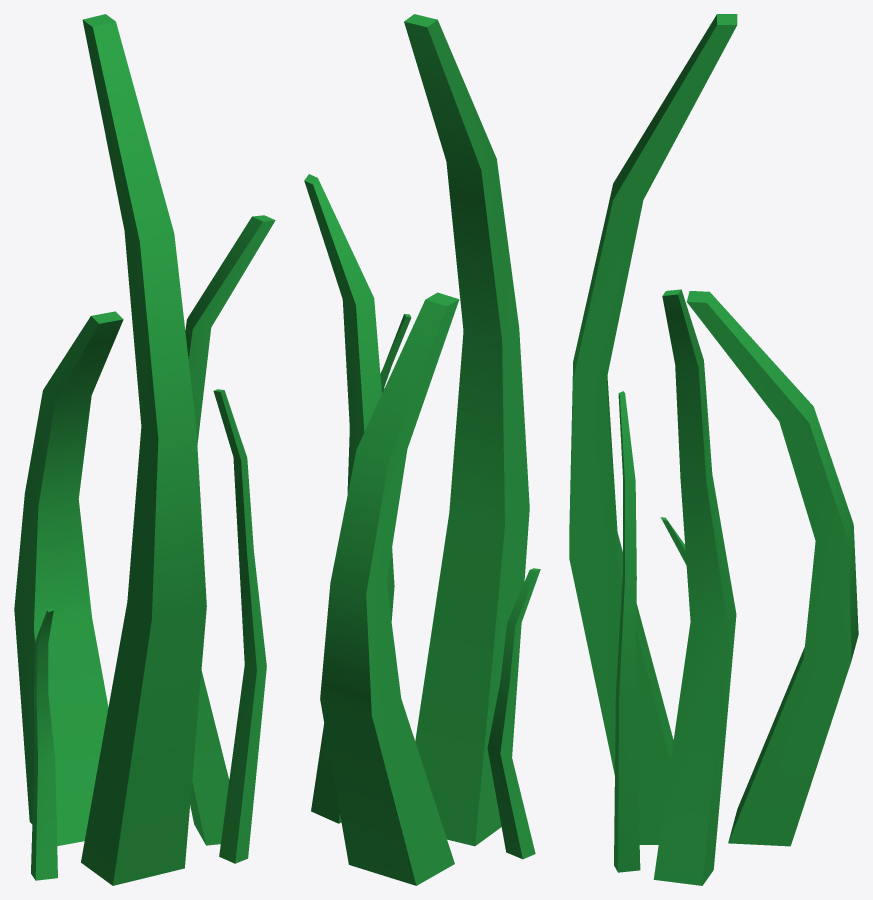
Rendered from Grass.fbx.
3 views of the same model, side by side, from view 1: azimuth 30°, elevation 25°; view 2: azimuth 150°, elevation 25°; view 3: azimuth 270°, elevation 25° (orthographic). The views are drawn at different scales.
Visible parts, largest first — view 1: pCube4, pCube5, pCube8, pCube6, pCube7; view 2: pCube4, pCube5, pCube6, pCube7, pCube8; view 3: pCube4, pCube5, pCube6, pCube8.
Part boxes in pixels (x1,y1,x2,y2): pCube4: [81, 14, 206, 885]; pCube5: [14, 311, 123, 845]; pCube8: [213, 389, 266, 863]; pCube6: [185, 215, 275, 845]; pCube7: [31, 608, 57, 880]; pCube4: [404, 14, 529, 846]; pCube5: [320, 292, 459, 885]; pCube6: [304, 174, 394, 823]; pCube7: [487, 568, 540, 859]; pCube8: [380, 314, 411, 393]; pCube4: [569, 14, 737, 844]; pCube5: [686, 291, 858, 846]; pCube6: [653, 289, 736, 885]; pCube8: [614, 391, 640, 872].
Bounding box in the file's own units: 0.2556 × 0.8637 × 0.2803.
